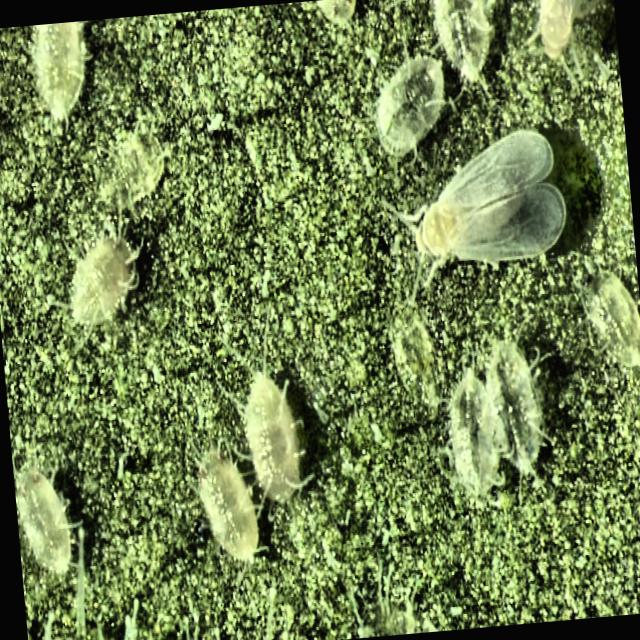nymph: (449, 340, 545, 492), (243, 372, 299, 500), (198, 447, 257, 560), (376, 57, 444, 155), (582, 258, 640, 366), (72, 234, 137, 323), (16, 467, 70, 573), (99, 130, 166, 209), (31, 21, 85, 118), (431, 0, 492, 81), (316, 0, 354, 25)
whitefly: (414, 129, 565, 263), (528, 0, 585, 59)
